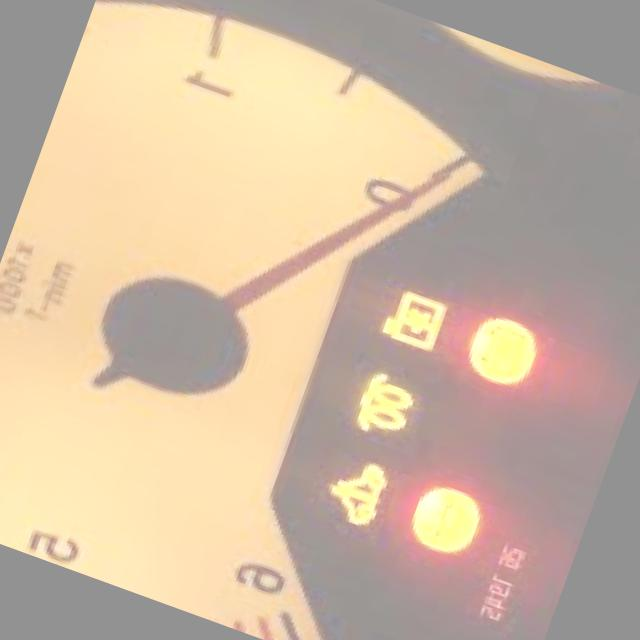kontrolka: (344, 362, 427, 448), (464, 314, 542, 390), (413, 482, 478, 554)
